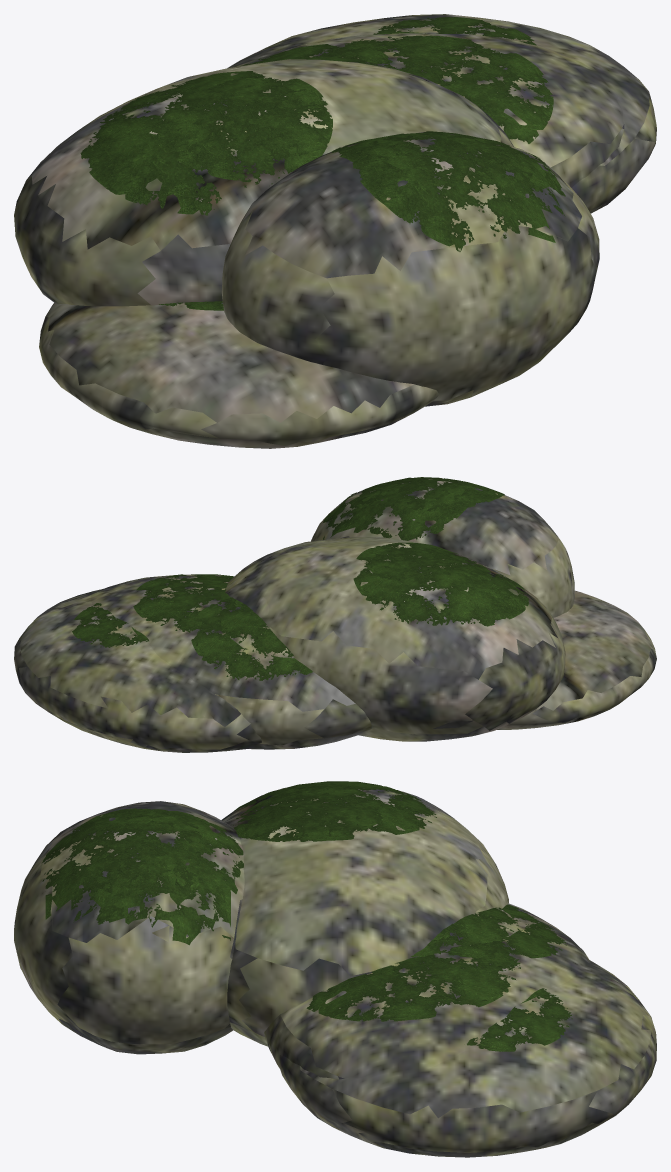
The model's file is v6_riverstones.glb.
3 views of the same model, one above another, from view 1: azimuth 30°, elevation 25°; view 2: azimuth 150°, elevation 25°; view 3: azimuth 270°, elevation 25° (orthographic). The views are drawn at different scales.
Visible parts, largest first — view 1: sacred_weathered_stone_surface, v6_surface_moss_surface; view 2: sacred_weathered_stone_surface, v6_surface_moss_surface; view 3: sacred_weathered_stone_surface, v6_surface_moss_surface.
Part boxes in pixels (bbox=[...]): sacred_weathered_stone_surface: bbox=[14, 14, 656, 448]; v6_surface_moss_surface: bbox=[80, 17, 565, 310]; sacred_weathered_stone_surface: bbox=[14, 478, 656, 752]; v6_surface_moss_surface: bbox=[72, 477, 528, 680]; sacred_weathered_stone_surface: bbox=[14, 787, 656, 1157]; v6_surface_moss_surface: bbox=[41, 781, 572, 1051].
Bounding box in the file's own units: 0.8235 × 0.2601 × 0.7419.
Materials: 2 (2 with a texture image).
